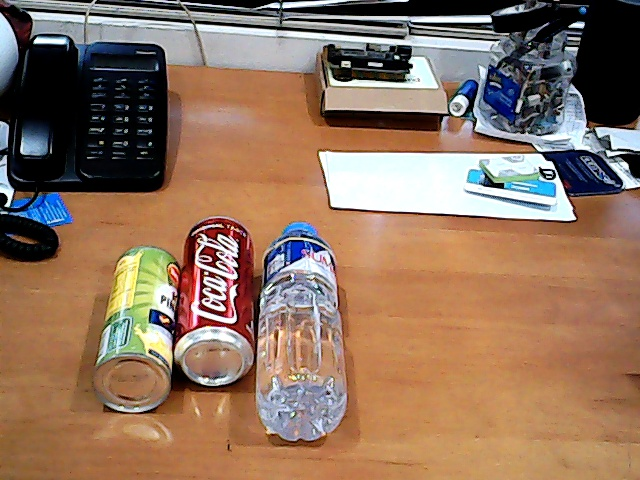Cola: (172, 195, 267, 397)
Pine Juice: (85, 234, 183, 423)
Summit Water: (251, 209, 365, 454)
